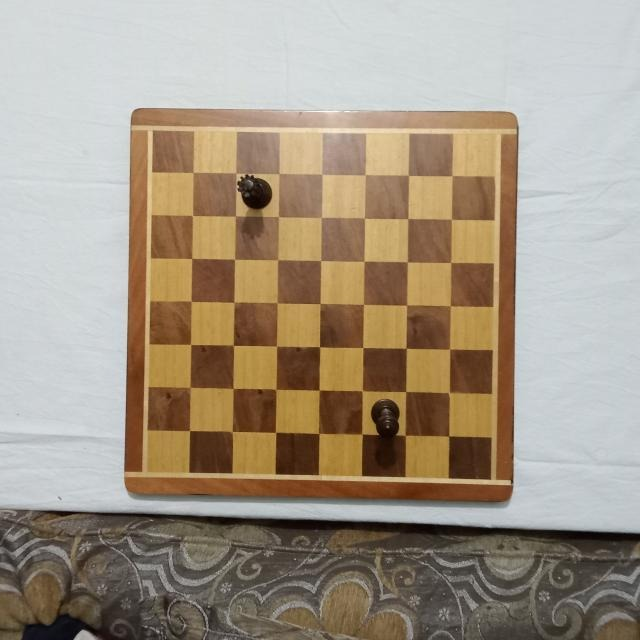black-king: (369, 398, 401, 438)
black-queen: (237, 172, 272, 211)
